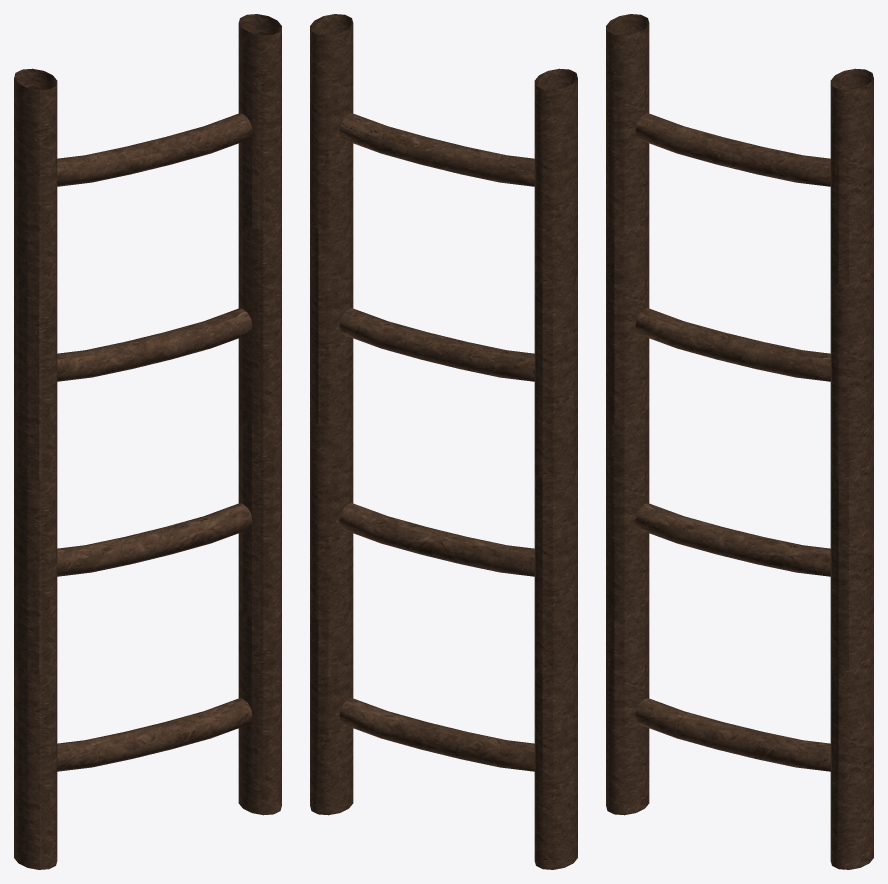
File: Ladder_4m.fbx
3 views of the same model, side by side, from view 1: azimuth 30°, elevation 25°; view 2: azimuth 150°, elevation 25°; view 3: azimuth 330°, elevation 25° (orthographic).
Parts seen in each view (by area): view 1: Ladder_4m; view 2: Ladder_4m; view 3: Ladder_4m.
Part boxes in pixels (x1=…): Ladder_4m: x1=14, y1=14, x2=281, y2=869; Ladder_4m: x1=310, y1=14, x2=577, y2=869; Ladder_4m: x1=606, y1=14, x2=873, y2=869.
Bounding box in the file's own units: 139 × 400 × 25.14.
Materials: 1 (1 with a texture image).
